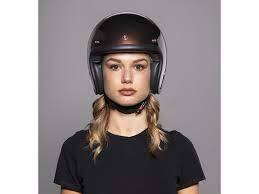helmet: (86, 11, 167, 104)
